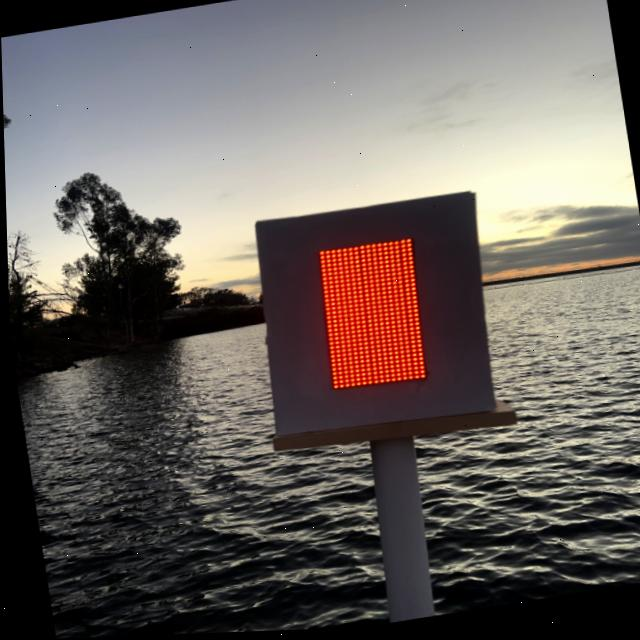led: (268, 212, 478, 434)
